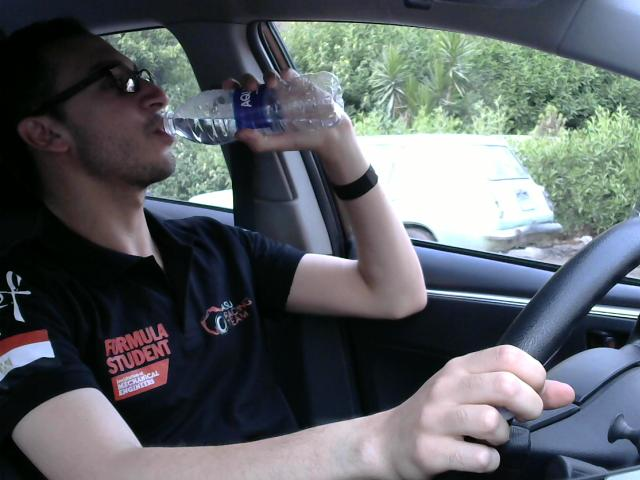Drinking: (153, 67, 357, 140)
